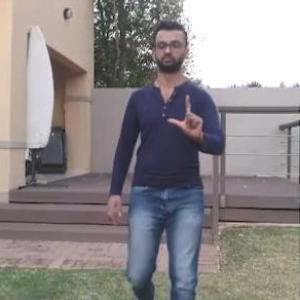land_hand: (160, 88, 206, 146)
